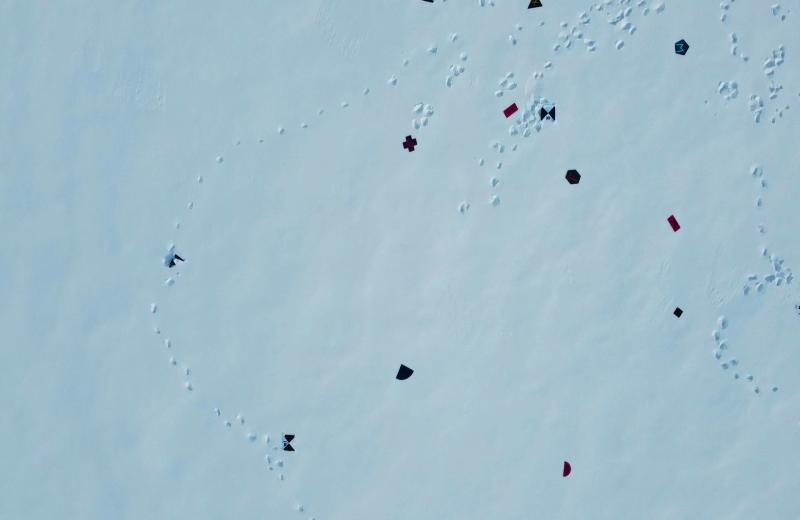Cross: (403, 134, 419, 153)
Hexagon: (565, 169, 582, 187)
Pentagon: (674, 39, 692, 57)
Quarter Circle: (395, 361, 415, 382)
Rectangle: (666, 212, 681, 234), (502, 102, 520, 117)
Semi Circle: (561, 460, 572, 478)
Square: (673, 306, 684, 318)
Triangle: (525, 0, 545, 11)
